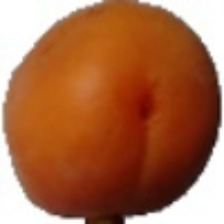apricot: (45, 56, 183, 194)
